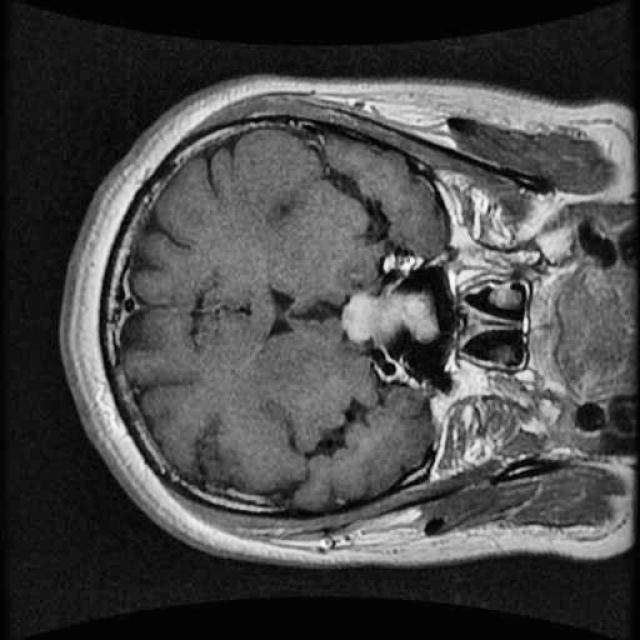Tumor: (326, 279, 450, 352)
